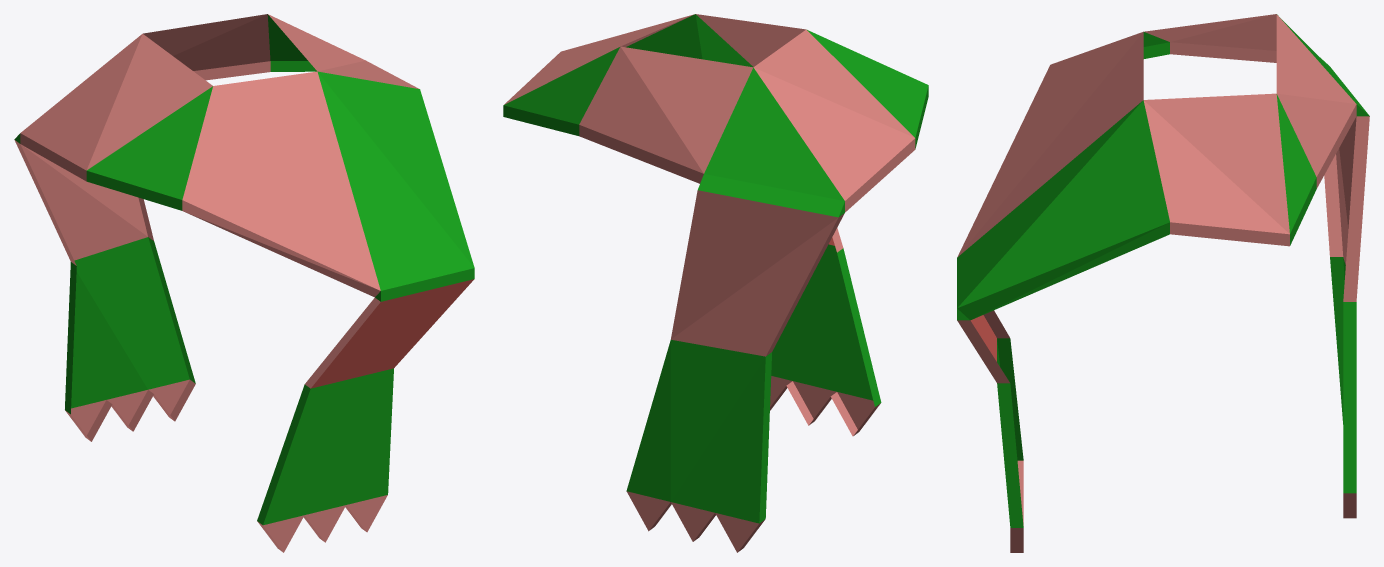
3 views of the same model, side by side, from view 1: azimuth 30°, elevation 25°; view 2: azimuth 150°, elevation 25°; view 3: azimuth 270°, elevation 25° (orthographic). The views are drawn at different scales.
Bounding box in the file's own units: 32 × 40 × 31.
